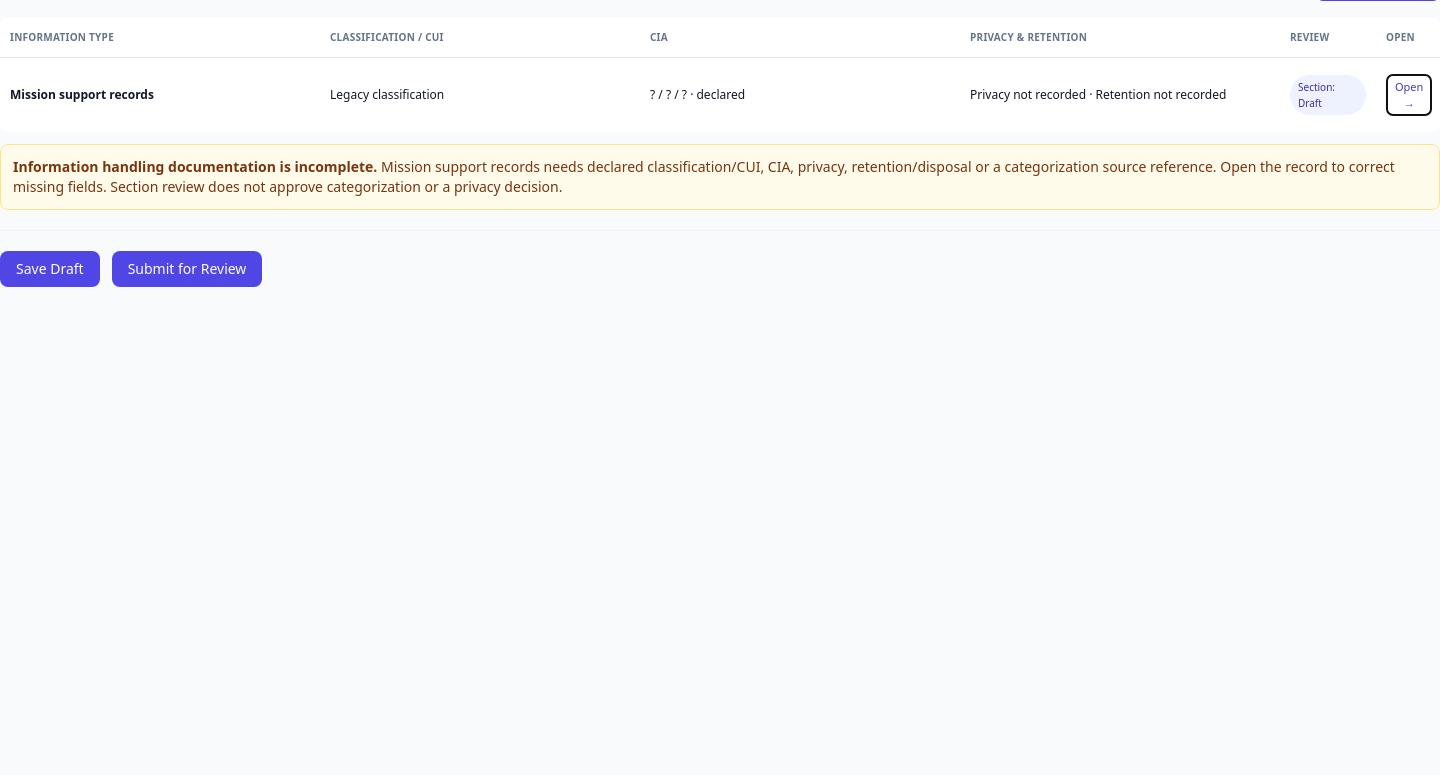
Test: Data information types editor › focuses the table Add action when the last entry is removed
The width and height of the screenshot is (1440, 775).
Click the button with aria-label "Open data type Mission support records" at {"x": 1409, "y": 95}, box [1386,74,1432,116]
(page scrolled)
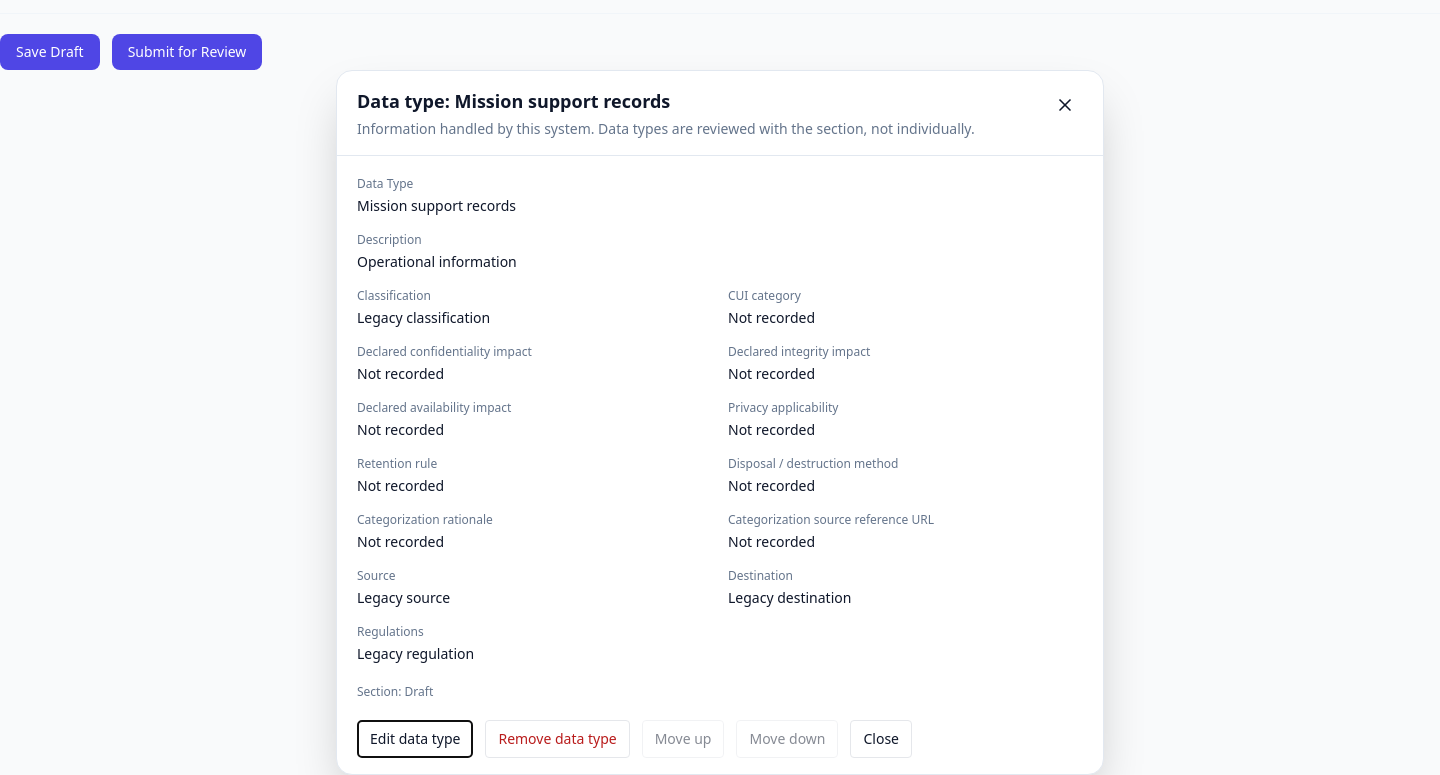
Click the button "Remove data type" at {"x": 558, "y": 739}, box [485,720,630,758]
(page scrolled)
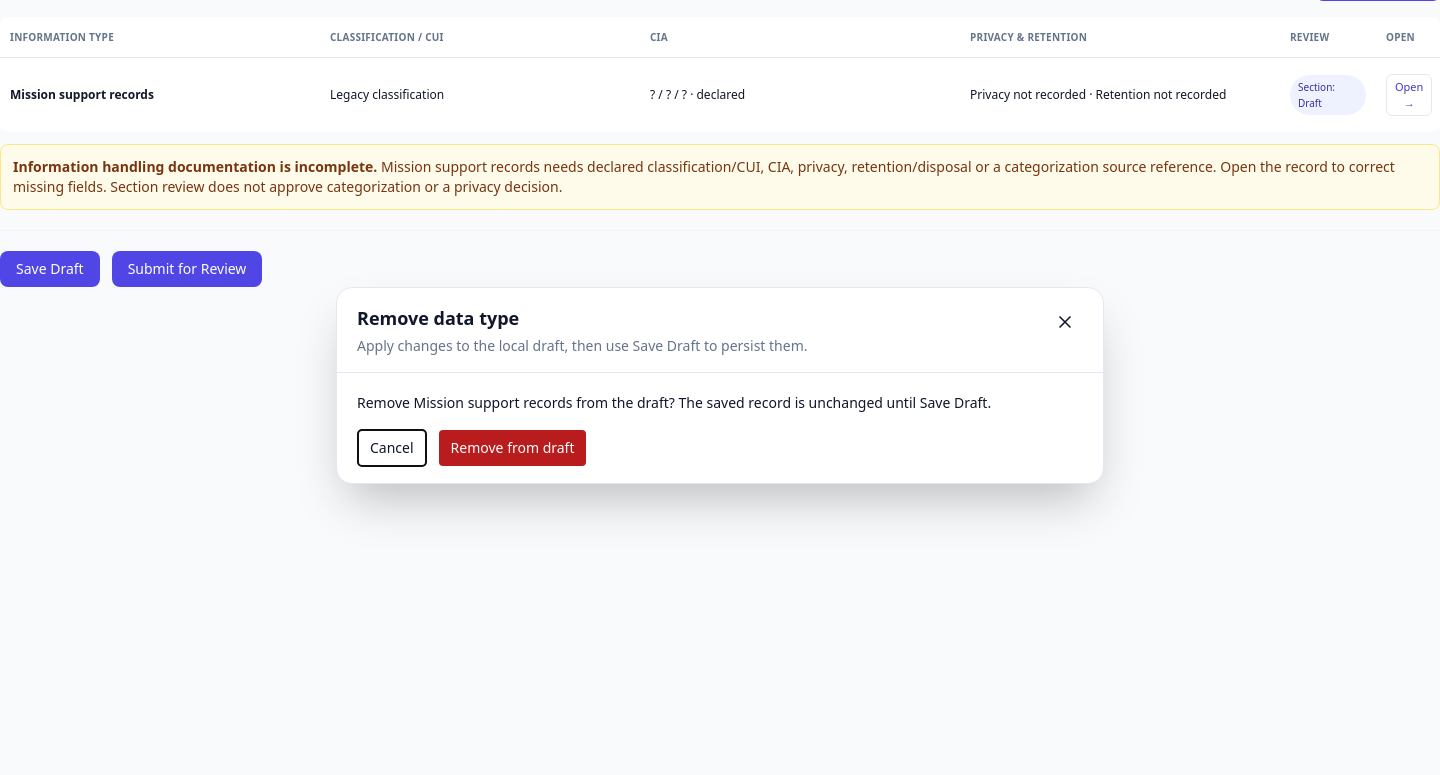
Click the button "Remove from draft" at {"x": 513, "y": 448}, box [439,430,586,466]
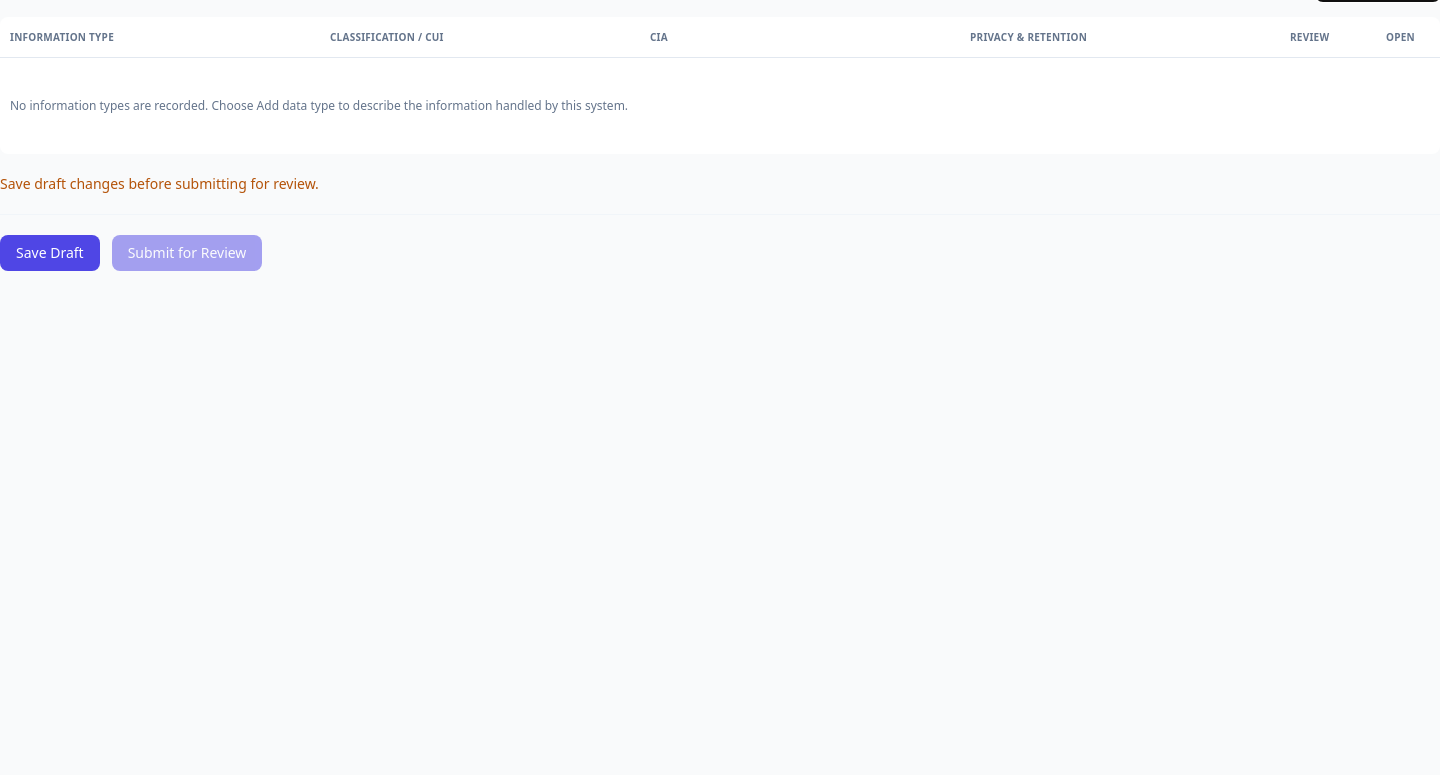
Result: the text "No information types are recorded" is shown at [10,97,208,114]
